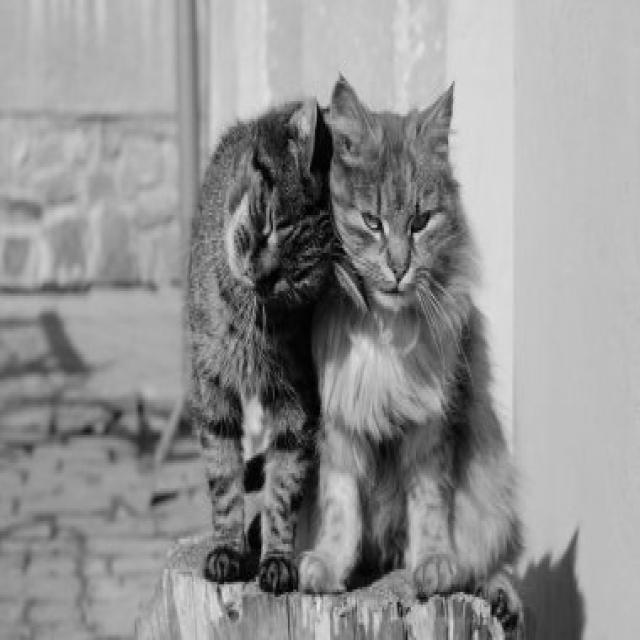Animal: (299, 79, 524, 631), (189, 100, 335, 592)
